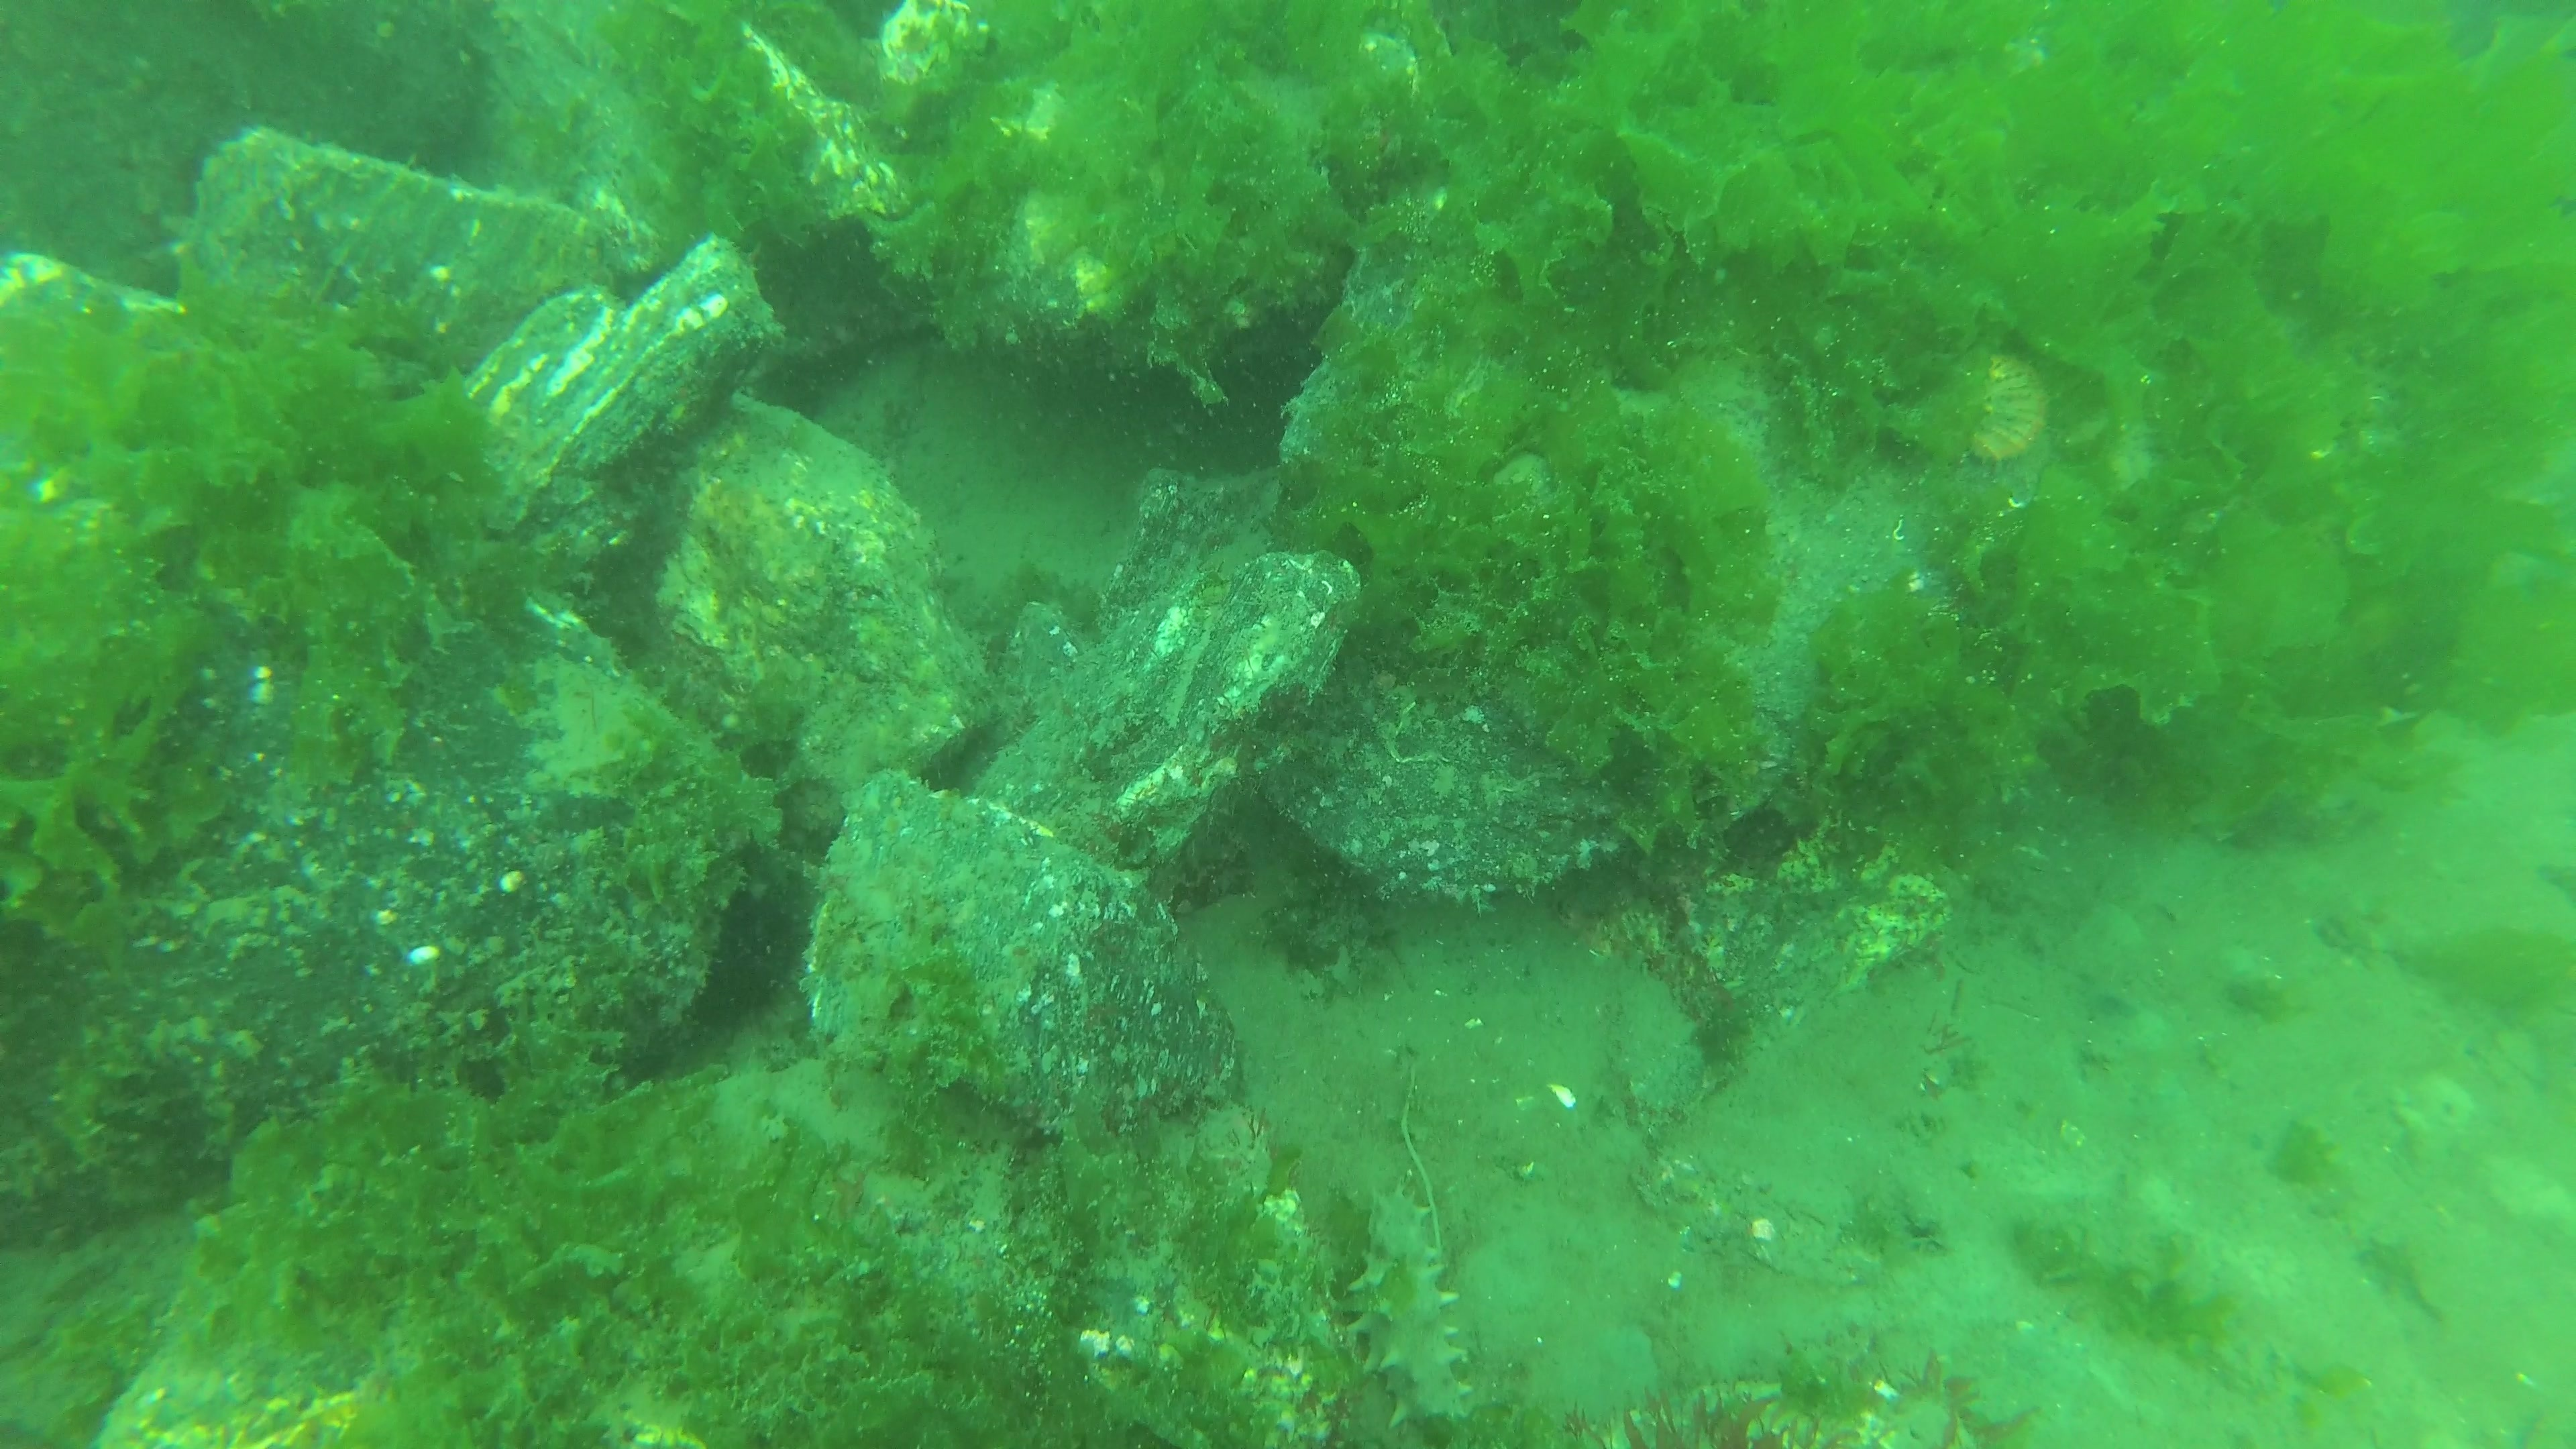echinus: (699, 888, 800, 1028)
holothurian: (1341, 1180, 1479, 1435)
scallop: (1967, 349, 2049, 462)
